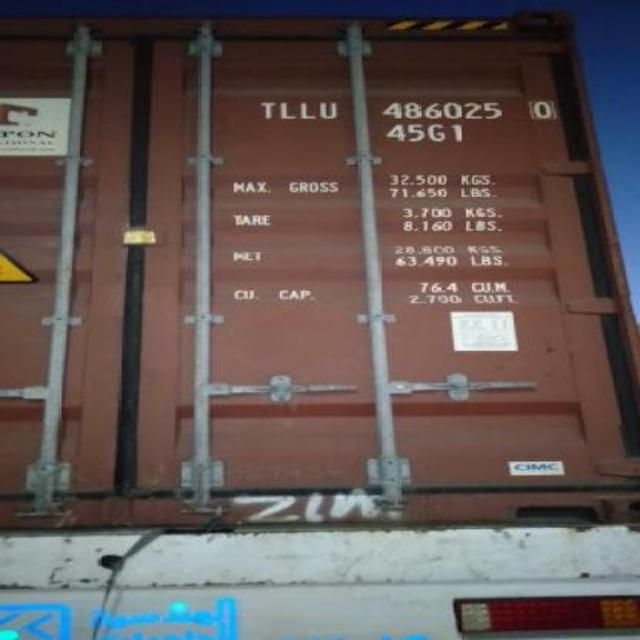0: (530, 99, 556, 119), (441, 98, 462, 122)
2: (460, 95, 484, 121)
4: (382, 96, 404, 122)
5: (484, 98, 504, 120)
6: (418, 94, 442, 122)
8: (406, 95, 419, 124)
L: (298, 95, 320, 121), (276, 98, 296, 122)
T: (254, 98, 276, 122)
U: (320, 100, 342, 124)
